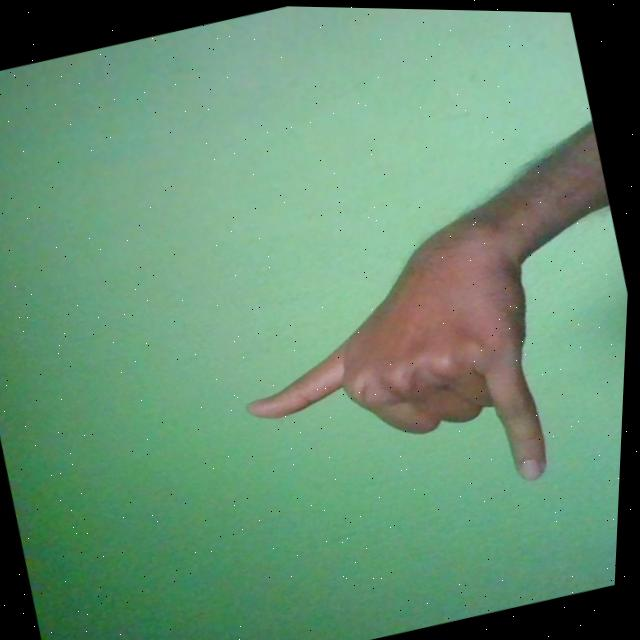Call Me: (208, 194, 576, 541)
